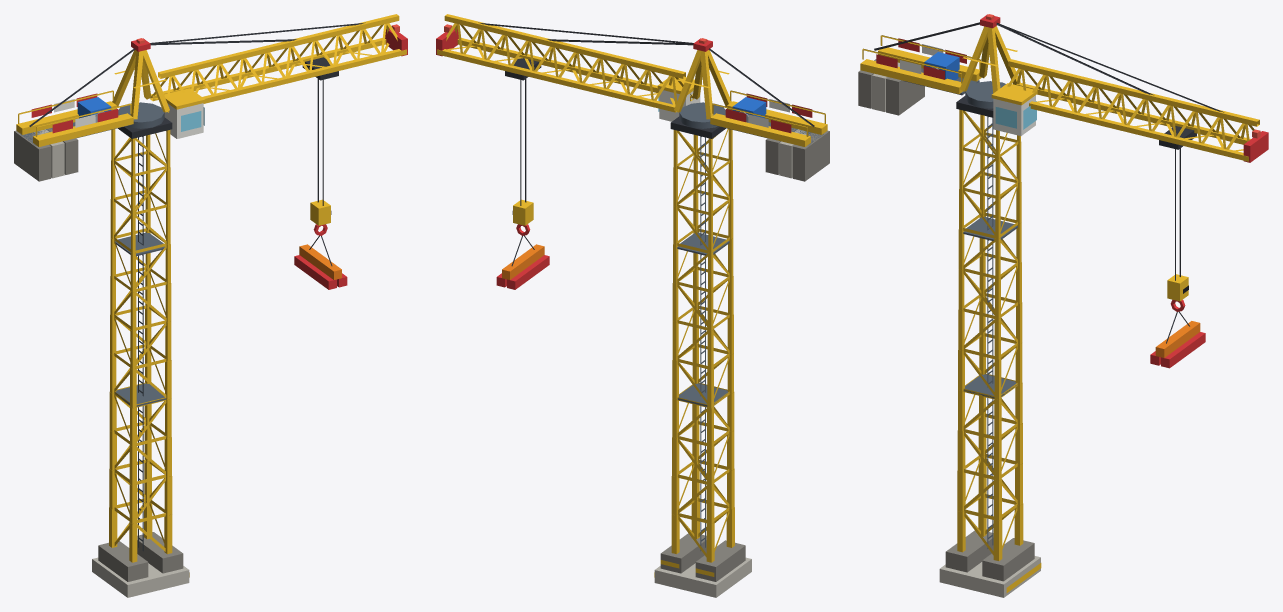
File: crane_build.glb
The picture shows the model from 3 angles, left to right: view 1: azimuth 30°, elevation 25°; view 2: azimuth 150°, elevation 25°; view 3: azimuth 330°, elevation 25°; orthographic projection. The views are drawn at different scales.
Parts seen in each view (by area): view 1: Body; view 2: Body; view 3: Body.
Part boxes in pixels (x1=…): Body: x1=14, y1=14, x2=407, y2=597; Body: x1=436, y1=14, x2=829, y2=597; Body: x1=858, y1=14, x2=1268, y2=597.
Size of the model in its own units: 3.62 by 4.99 by 0.6.
